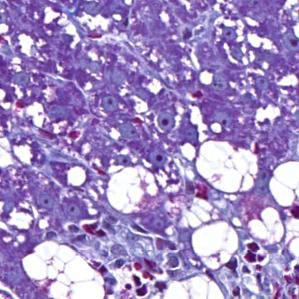ballooning: (19, 237, 108, 295), (194, 138, 261, 197), (104, 163, 162, 218), (189, 218, 243, 272), (245, 203, 287, 246), (158, 271, 228, 296), (264, 160, 296, 210)
